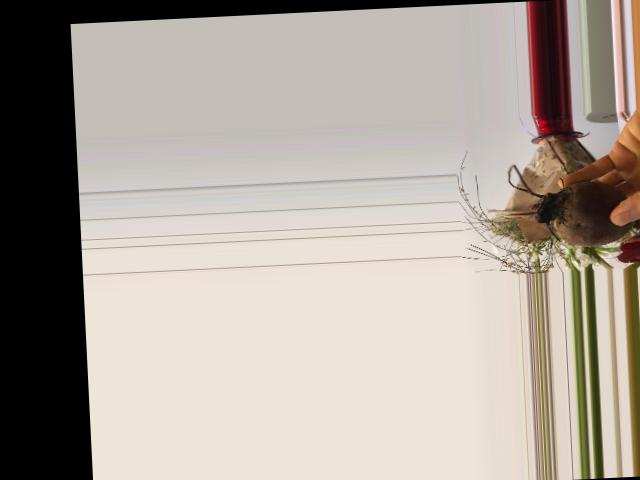beet: (506, 157, 640, 260)
